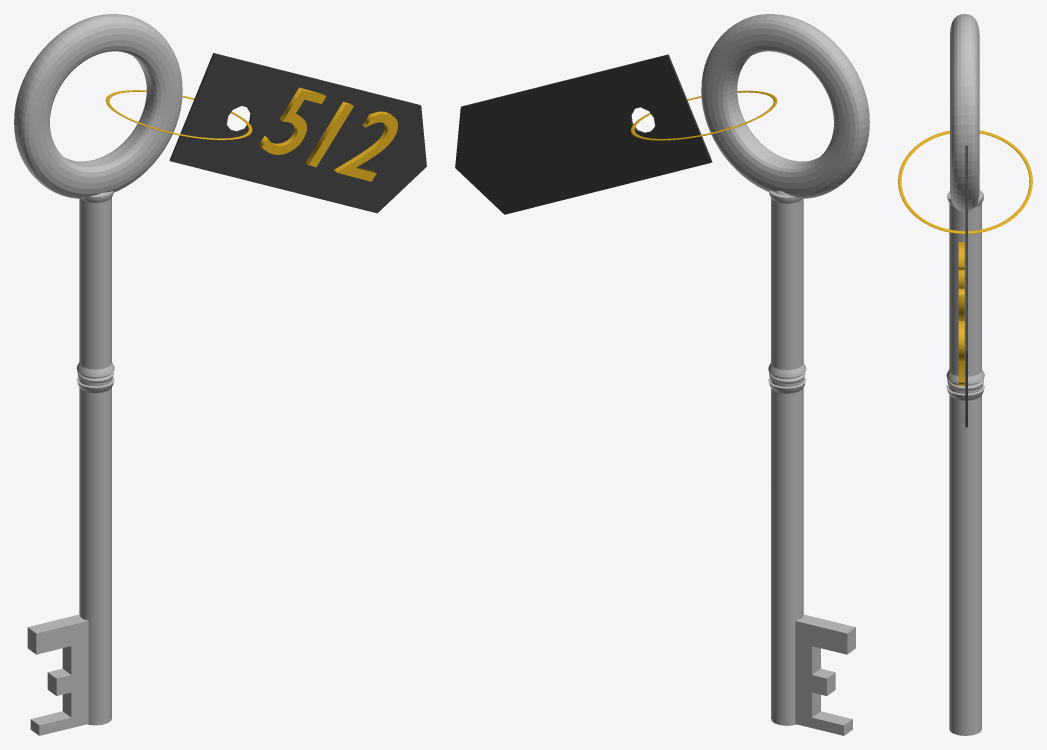
Rendered from key512.fbx.
3 views of the same model, side by side, from view 1: azimuth 30°, elevation 25°; view 2: azimuth 150°, elevation 25°; view 3: azimuth 270°, elevation 25° (orthographic).
Parts seen in each view (by area): view 1: key512; view 2: key512; view 3: key512.
Boxes of the visible parts, x1,y1,x2,y2 form: key512: [14, 14, 426, 735]; key512: [455, 14, 869, 735]; key512: [898, 14, 1032, 735].
Size of the model in its own units: 8.68 by 14.18 by 2.45.
